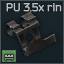PU 3.5x ring mount: (0, 0, 64, 64)
